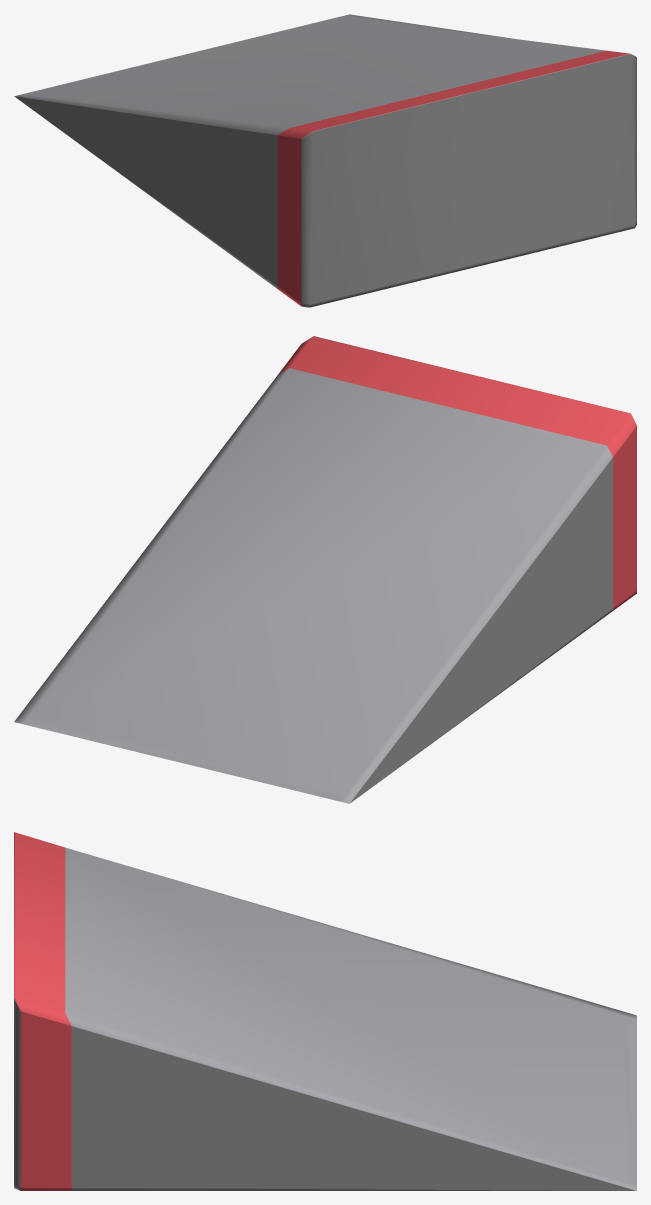
File: small_ramp.glb
3 renders of one model, top to bottom at view 1: azimuth 30°, elevation 25°; view 2: azimuth 150°, elevation 25°; view 3: azimuth 270°, elevation 25°, orthographic. The views are drawn at different scales.
Visible parts, largest first — view 1: Cube.038; view 2: Cube.038; view 3: Cube.038.
Boxes of the visible parts, x1,y1,x2,y2 form: Cube.038: [14, 14, 636, 307]; Cube.038: [14, 336, 636, 803]; Cube.038: [14, 832, 636, 1190].
Bounding box in the file's own units: 10 × 5 × 15.
